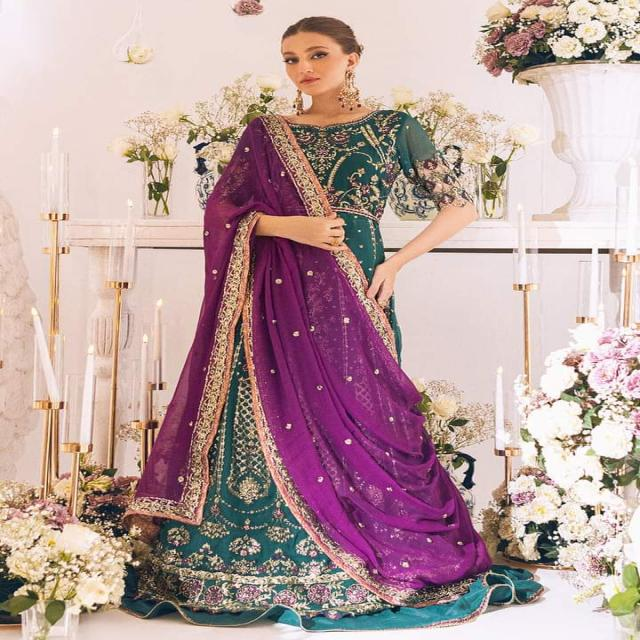female-dress: (162, 111, 473, 614)
